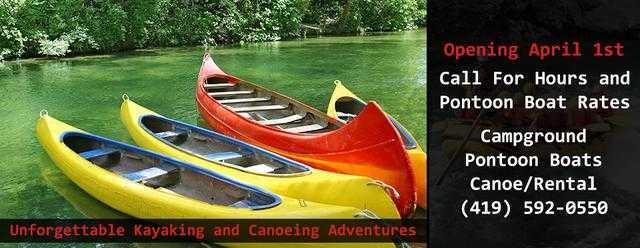kayak: (36, 111, 408, 224), (195, 49, 425, 211)
